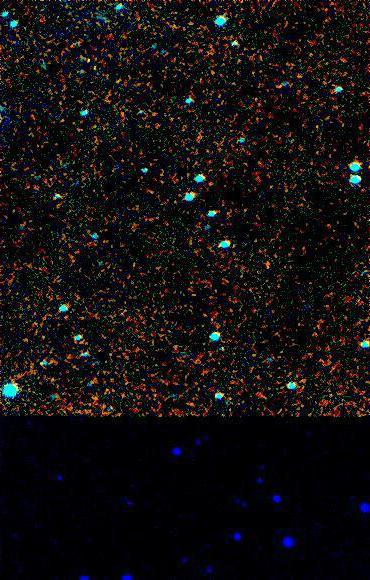star: (162, 332, 192, 362)
